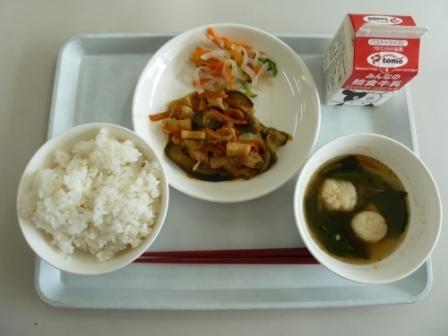Milk: (326, 8, 423, 105)
Rice: (21, 124, 171, 269)
Salad: (181, 23, 284, 95)
Soups: (295, 143, 438, 274)
vegetable based cooked food: (159, 97, 288, 180)
